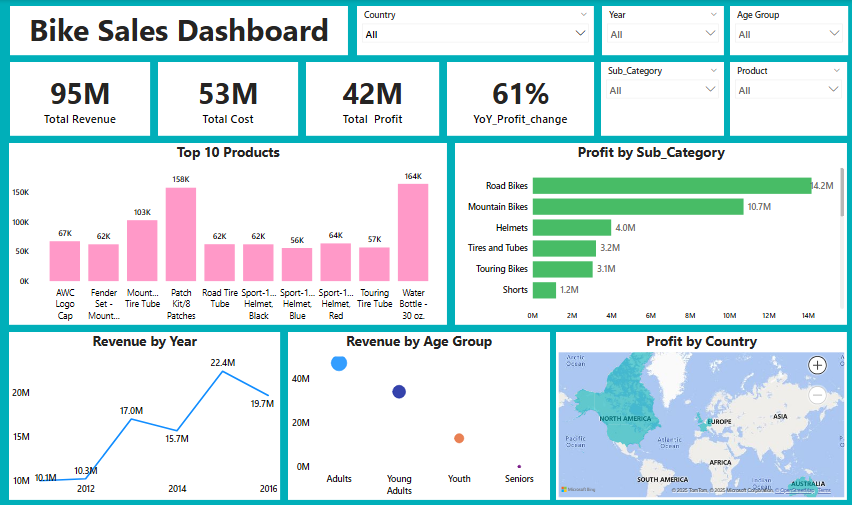

The page's visual inventory and layout, read from the dashboard file:
{"tool":"powerbi","page":{"name":"Dashboard","canvas":[1600,950],"ordinal":0},"visuals":[{"type":"columnChart","title":"Top 10 Products","fields":{"Category":["Sales.Product"],"Y":["Sum(Sales.Order_Quantity)"]},"box":[18.7,267.4,819.1,340.4],"z":0},{"type":"barChart","title":"Profit by Sub_Category","fields":{"Category":["Sales.Sub_Category"],"Y":["Sum(Sales.Profit)"]},"box":[852.8,267.4,733.1,340.4],"z":1000},{"type":"scatterChart","title":"Revenue by Age Group","fields":{"Y":["Sum(Sales.Revenue)"],"X":["Sales.Age Group"],"Size":["Sum(Sales.Order_Quantity)"]},"box":[540.5,620.9,490,314.2],"z":2000},{"type":"filledMap","title":"Profit by Country","fields":{"Category":["Sales.Country"]},"box":[1041.6,620.9,544.2,314.2],"z":3000},{"type":"card","fields":{"Values":["Measures (2).Total Revenue"]},"box":[20.6,115.9,261.8,138.4],"z":4000},{"type":"card","fields":{"Values":["Measures (2).YoY_Profit_change"]},"box":[837.8,115.9,274.9,138.4],"z":5000},{"type":"card","fields":{"Values":["Sum(Sales.Profit)"]},"box":[574.1,115.9,248.7,138.4],"z":6000},{"type":"lineChart","title":" Revenue by Year","fields":{"Category":["Sales.Year"],"Y":["Sum(Sales.Revenue)"]},"box":[18.7,620.9,506.8,314.2],"z":7000},{"type":"card","fields":{"Values":["Measures (2).Total Cost"]},"box":[297.3,115.9,261.8,138.4],"z":8000},{"type":"textbox","box":[20.6,11.2,632.1,91.6],"z":9000},{"type":"slicer","fields":{"Values":["Sales.Country"]},"box":[669.5,11.2,443.2,91.6],"z":10000},{"type":"slicer","fields":{"Values":["Sales.Age Group"]},"box":[1367,11.2,220.7,91.6],"z":11000},{"type":"slicer","fields":{"Values":["Sales.Year"]},"box":[1127.7,11.2,228.1,91.6],"z":12000},{"type":"slicer","fields":{"Values":["Sales.Product"]},"box":[1367,115.9,218.8,138.4],"z":13000},{"type":"slicer","fields":{"Values":["Sales.Sub_Category"]},"box":[1125.8,115.9,230,138.4],"z":14000}]}

Visuals, with their boxes in screenshot pixels (x1, y1, x2, y2), scaled from the page's 1600x950 canvas onto the 852x505 screenshot:
"Top 10 Products" columnChart: 10,142,446,323
"Profit by Sub_Category" barChart: 454,142,844,323
"Revenue by Age Group" scatterChart: 288,330,549,497
"Profit by Country" filledMap: 555,330,844,497
card - Measures (2).Total Revenue: 11,62,150,135
card - Measures (2).YoY_Profit_change: 446,62,593,135
card - Sum(Sales.Profit): 306,62,438,135
" Revenue by Year" lineChart: 10,330,280,497
card - Measures (2).Total Cost: 158,62,298,135
textbox: 11,6,348,55
slicer - Sales.Country: 357,6,593,55
slicer - Sales.Age Group: 728,6,845,55
slicer - Sales.Year: 601,6,722,55
slicer - Sales.Product: 728,62,844,135
slicer - Sales.Sub_Category: 599,62,722,135
